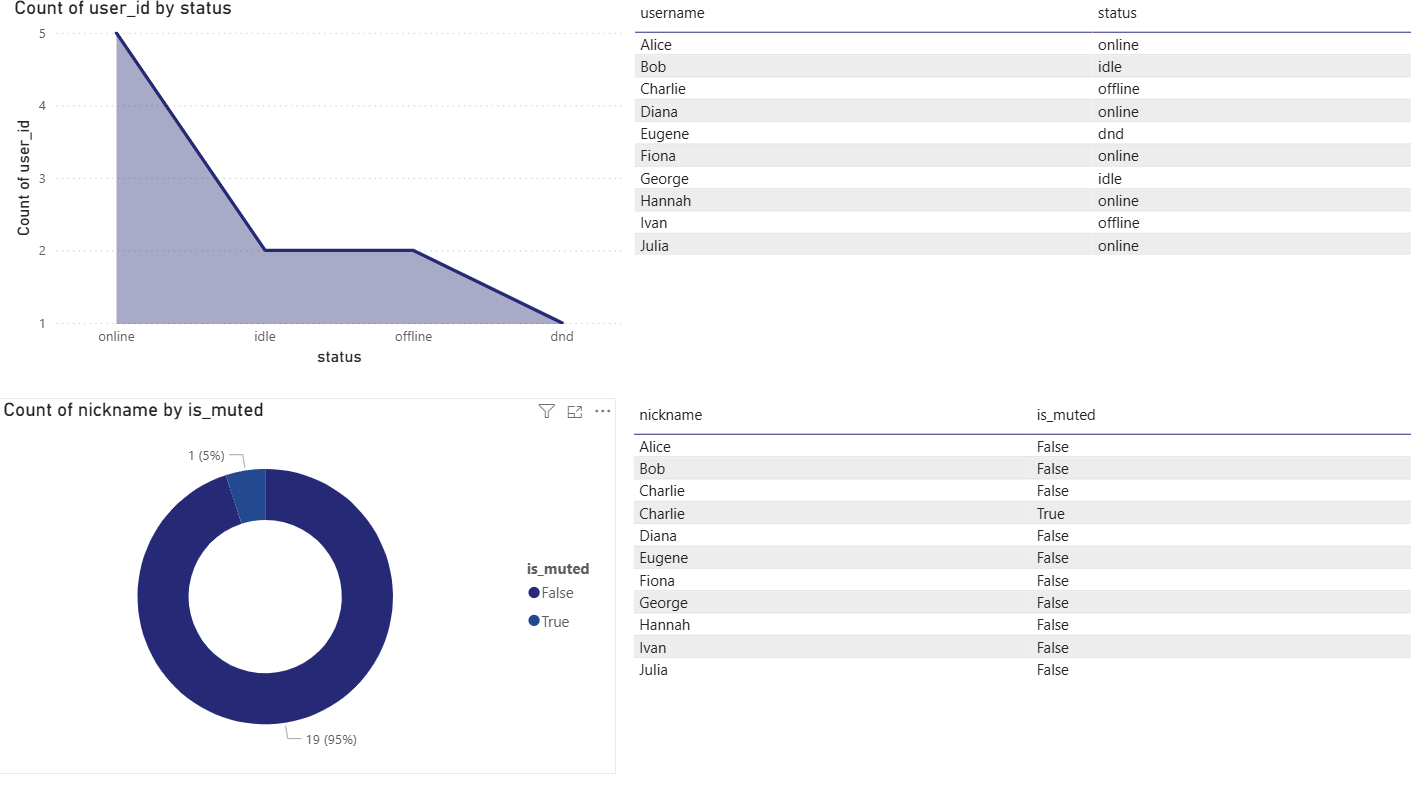

The page's visual inventory and layout, read from the dashboard file:
{"tool":"powerbi","page":{"name":"Page 2","canvas":[1280,720],"ordinal":2},"visuals":[{"type":"areaChart","fields":{"Category":["User.status"],"Y":["CountNonNull(User.user_id)"]},"box":[10,0,553.6,335.7],"z":0},{"type":"donutChart","fields":{"Category":["Membership.is_muted"],"Y":["CountNonNull(Membership.nickname)"]},"box":[0,359.7,553.6,336.7],"z":1000},{"type":"tableEx","fields":{"Values":["Membership.nickname","Membership.is_muted"]},"box":[563.6,359.7,716.4,360.7],"z":2000},{"type":"tableEx","fields":{"Values":["User.username","User.status"]},"box":[564,0,716,336],"z":3000}]}

Visuals, with their boxes in screenshot pixels (x1, y1, x2, y2), scaled from the page's 1280x720 canvas onto the 1426x799 screenshot:
areaChart - User.status x CountNonNull(User.user_id): detection(11, 0, 628, 373)
donutChart - Membership.is_muted x CountNonNull(Membership.nickname): detection(0, 399, 617, 773)
tableEx - Membership.nickname x Membership.is_muted: detection(628, 399, 1425, 798)
tableEx - User.username x User.status: detection(628, 0, 1425, 373)
